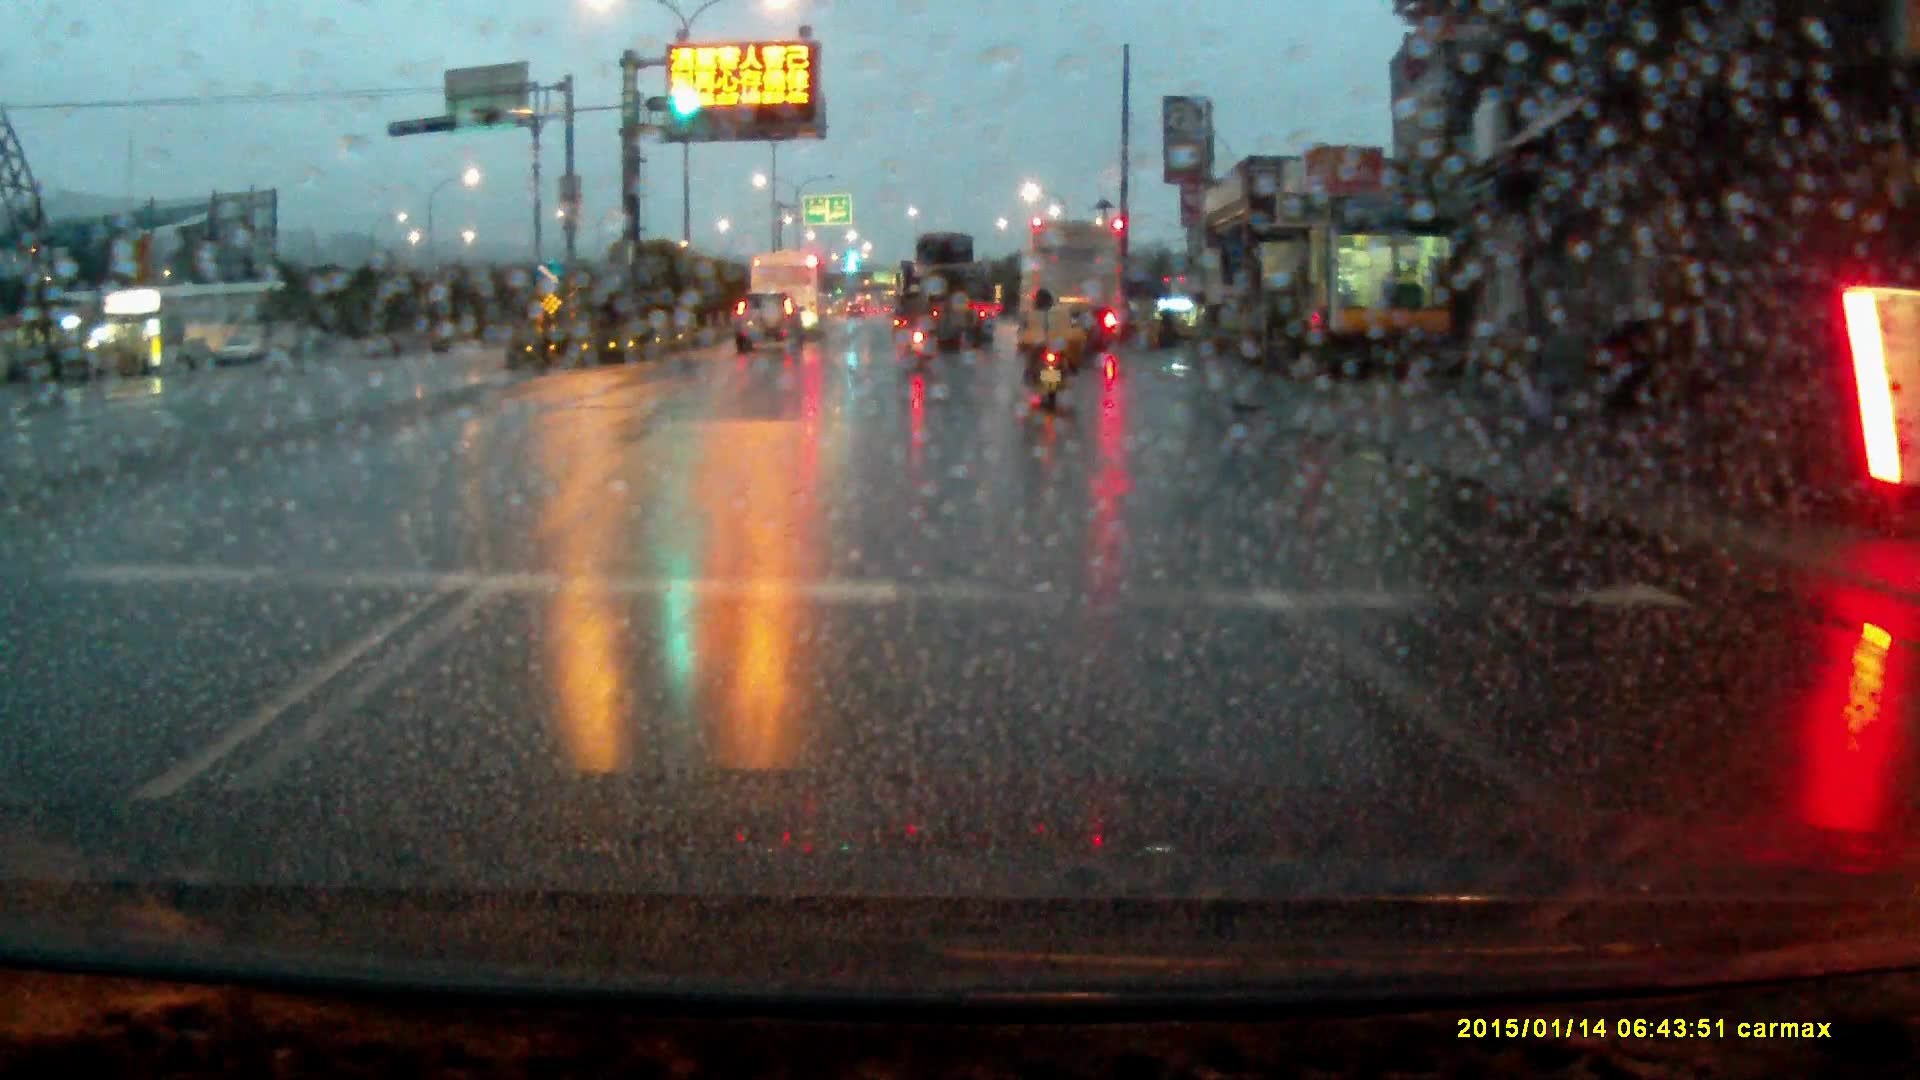rider: (1018, 286, 1085, 414), (902, 284, 939, 369)
vehicle: (1026, 219, 1124, 355), (899, 232, 996, 347), (755, 245, 830, 330), (732, 293, 807, 359)
